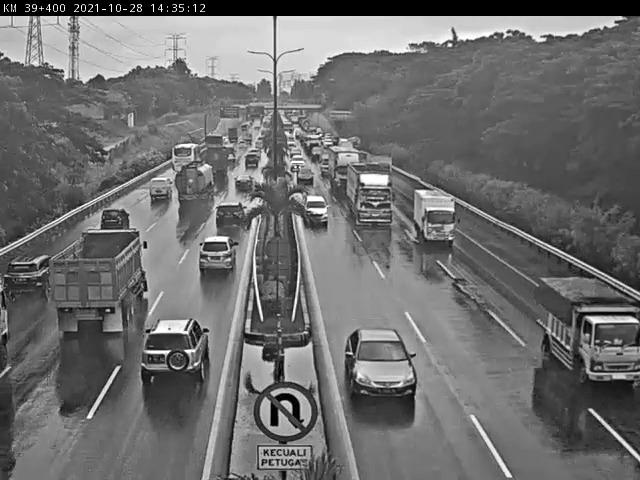big truck: (48, 227, 152, 341), (346, 162, 394, 226), (327, 144, 362, 192)
car: (136, 315, 216, 391), (344, 327, 416, 402), (1, 252, 56, 306), (196, 235, 241, 276), (302, 191, 332, 229), (215, 201, 249, 230), (100, 208, 133, 231), (146, 176, 174, 203), (233, 173, 256, 193), (295, 164, 316, 185), (319, 152, 331, 177), (243, 154, 260, 170), (290, 154, 305, 172), (309, 145, 324, 161), (247, 149, 263, 161), (237, 141, 248, 150)
small bus: (171, 142, 203, 172)
small truck: (533, 274, 640, 386), (410, 186, 460, 247), (174, 161, 217, 208)
